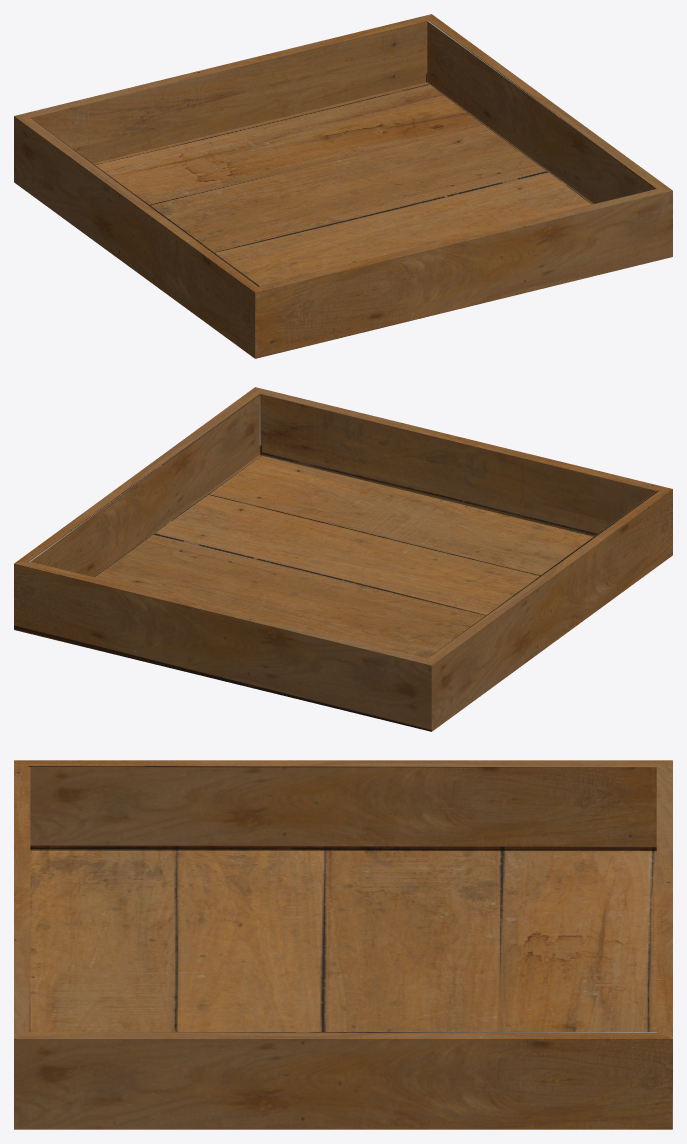
Rendered from FBX_Planter.fbx.
3 renders of one model, top to bottom at view 1: azimuth 30°, elevation 25°; view 2: azimuth 150°, elevation 25°; view 3: azimuth 270°, elevation 25°, orthographic. The views are drawn at different scales.
Visible parts, largest first — view 1: planter; view 2: planter; view 3: planter.
Part boxes in pixels (<box>): planter: <box>14,14,672,358</box>; planter: <box>14,387,672,731</box>; planter: <box>14,760,672,1129</box>.
Bounding box in the file's own units: 10.23 × 1.55 × 10.23.
